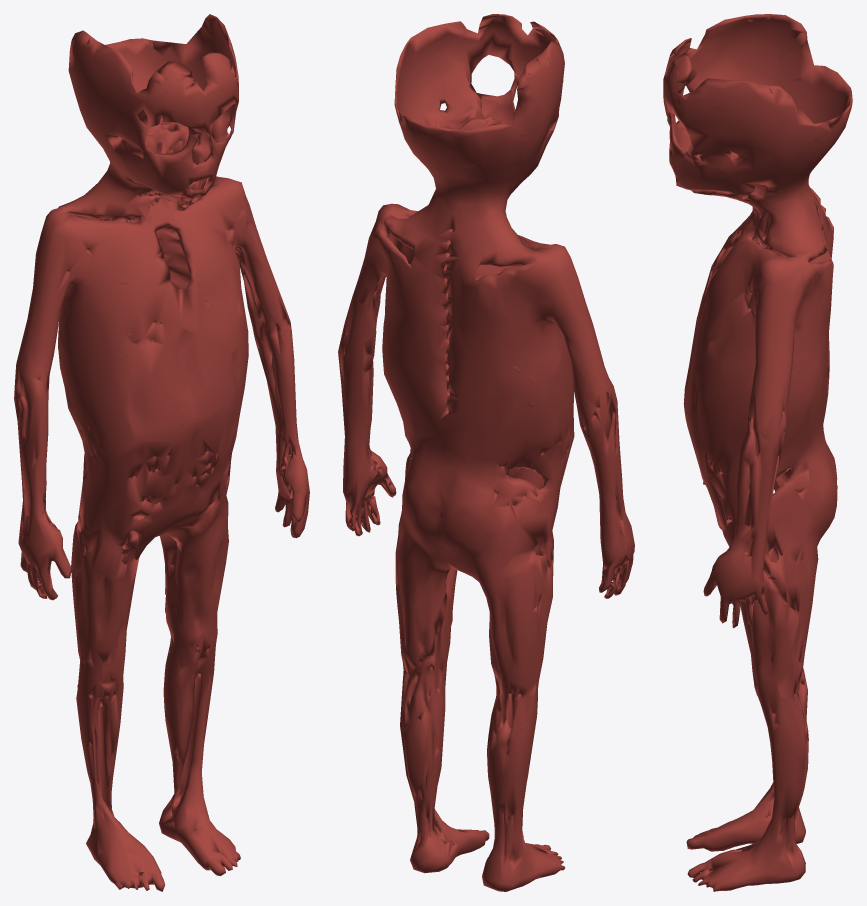
The model's file is pediatric_infant_female.muscular.LOD2.glb.
3 views of the same model, side by side, from view 1: azimuth 30°, elevation 25°; view 2: azimuth 150°, elevation 25°; view 3: azimuth 270°, elevation 25° (orthographic).
Parts seen in each view (by area): view 1: PEDIATRIC.INFANT.FEMALE.MUSCULAR.MUSCLE; view 2: PEDIATRIC.INFANT.FEMALE.MUSCULAR.MUSCLE; view 3: PEDIATRIC.INFANT.FEMALE.MUSCULAR.MUSCLE.
Part boxes in pixels (bbox=[...]): PEDIATRIC.INFANT.FEMALE.MUSCULAR.MUSCLE: bbox=[14, 14, 309, 891]; PEDIATRIC.INFANT.FEMALE.MUSCULAR.MUSCLE: bbox=[338, 14, 634, 891]; PEDIATRIC.INFANT.FEMALE.MUSCULAR.MUSCLE: bbox=[663, 14, 852, 891].
Size of the model in its own units: 0.2571 by 0.7314 by 0.1531.
